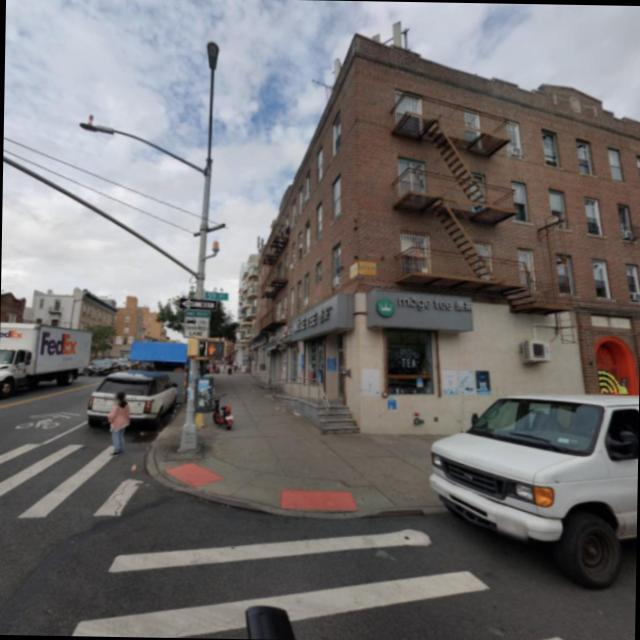off: (88, 91, 266, 254)
